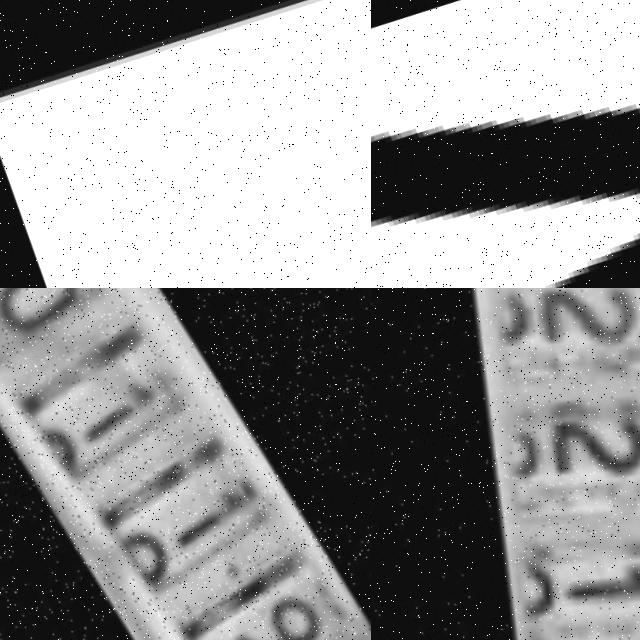0: (0, 288, 104, 347)
1: (51, 338, 189, 465), (145, 441, 279, 568), (540, 506, 640, 640)
2: (517, 359, 640, 520), (519, 288, 640, 384)
9: (211, 552, 353, 640)
L: (0, 0, 371, 288)
N: (371, 0, 640, 288)
